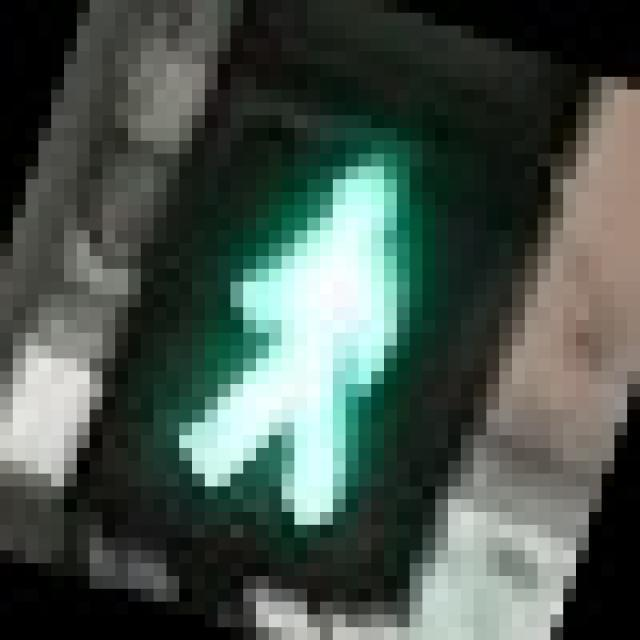geen-crossing: (90, 52, 500, 550)
